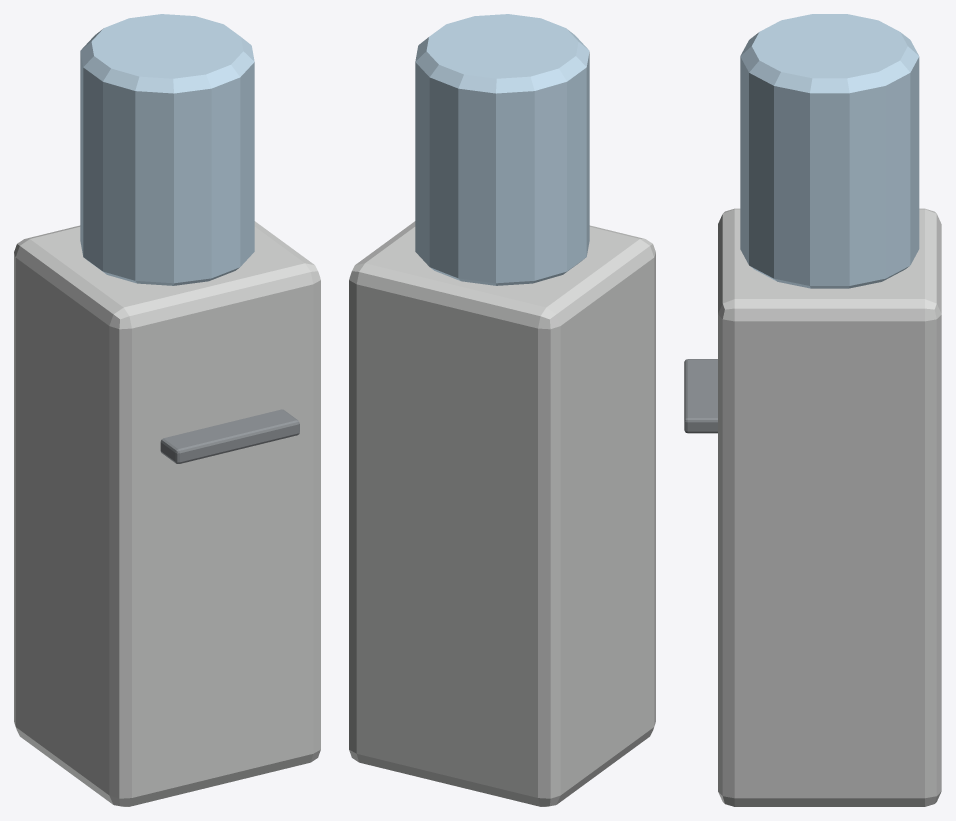
Rendered from P_water_cooler.fbx.
3 views of the same model, side by side, from view 1: azimuth 30°, elevation 25°; view 2: azimuth 150°, elevation 25°; view 3: azimuth 270°, elevation 25° (orthographic).
Visible parts, largest first — view 1: P_water_cooler; view 2: P_water_cooler; view 3: P_water_cooler.
Boxes of the visible parts, x1,y1,x2,y2 form: P_water_cooler: (14, 14, 320, 806); P_water_cooler: (349, 14, 655, 806); P_water_cooler: (684, 14, 941, 806).
Size of the model in its own units: 0.44 by 1.41 by 0.46.
